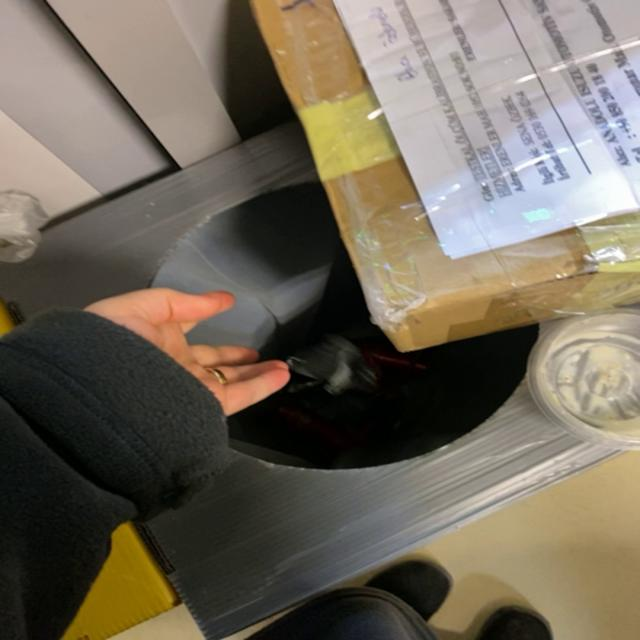bin: (1, 122, 620, 640)
metal: (285, 335, 377, 396)
